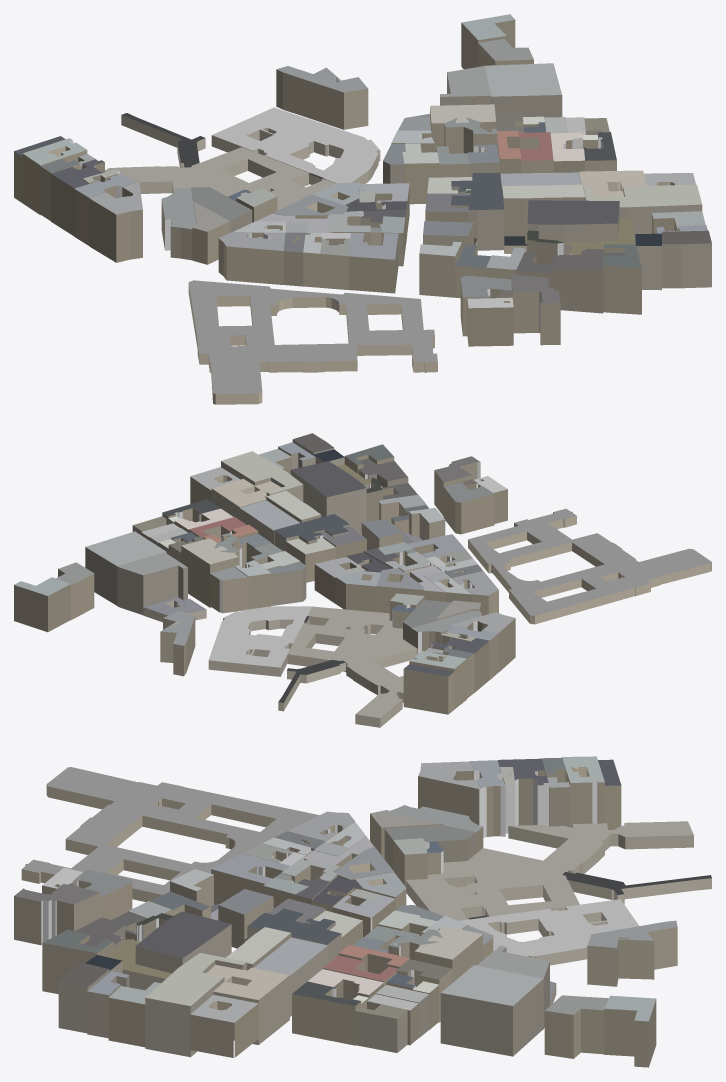
The picture shows the model from 3 angles, top to bottom: view 1: azimuth 30°, elevation 25°; view 2: azimuth 150°, elevation 25°; view 3: azimuth 270°, elevation 25°; orthographic projection. The views are drawn at different scales.
Parts seen in each view (by area): view 1: tuile; view 2: tuile; view 3: tuile.
Part boxes in pixels (x1=…): tuile: x1=14, y1=14, x2=711, y2=404; tuile: x1=14, y1=433, x2=711, y2=727; tuile: x1=14, y1=756, x2=711, y2=1067.
Size of the model in its own units: 296 by 27.69 by 299.
